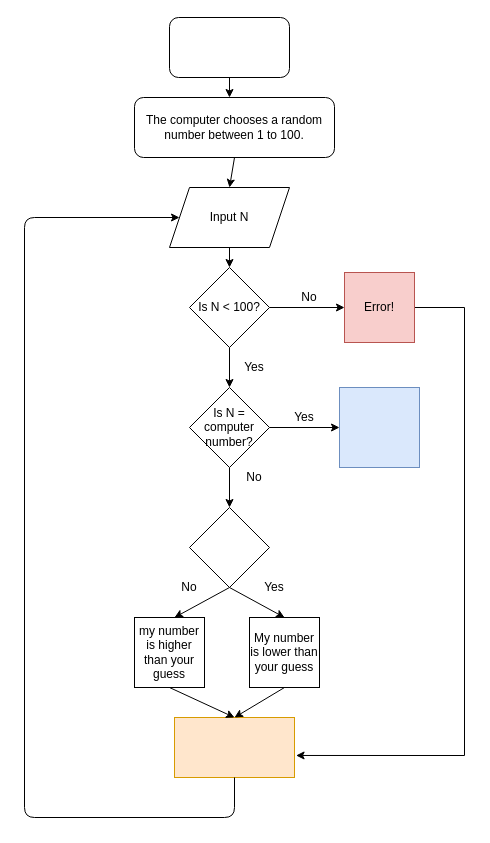
Image size: 490x843. Some labels were removed from this diagram. The shapes that lost their labels are listed below. From the top down, each one's box as (x1, y1, x2, y2) in pixels, then its label:
(168, 16, 290, 78): Start
(338, 386, 420, 468): You are correct! End.
(188, 506, 270, 588): Is N < computer number?
(174, 716, 294, 778): Try again!
